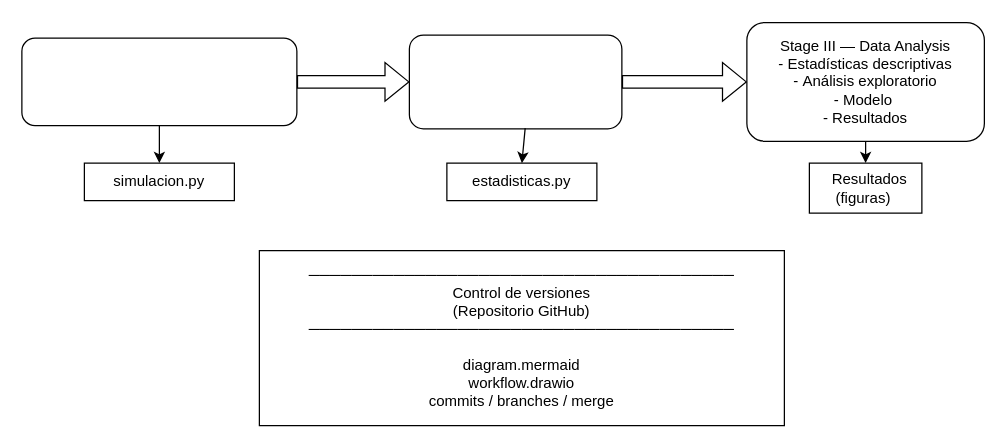
This 1006x448 diagram has some shape labels left out. Each missing label, with the centre of its shape:
"Stage 1: Data input - Simulación de encuesta - Datos crudos" goes at (159,81).
"Stage II – Data Processing - Limpieza - Transformaciones" goes at (515,81).
